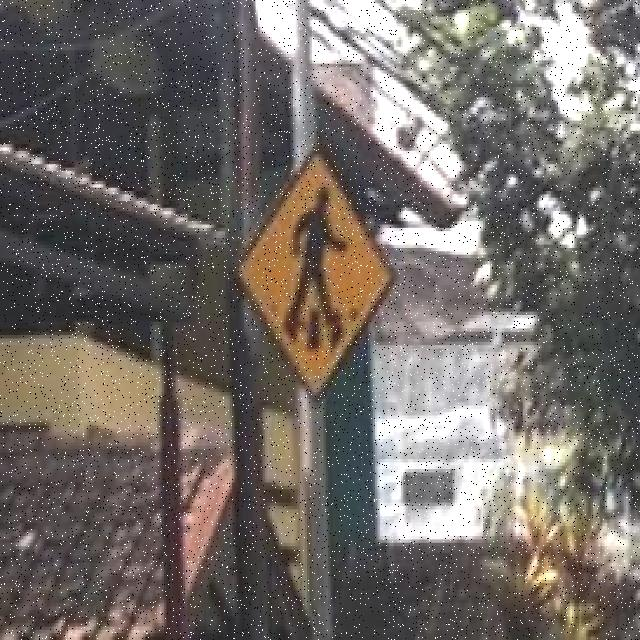Przejscie dla pieszych: (241, 158, 394, 389)
